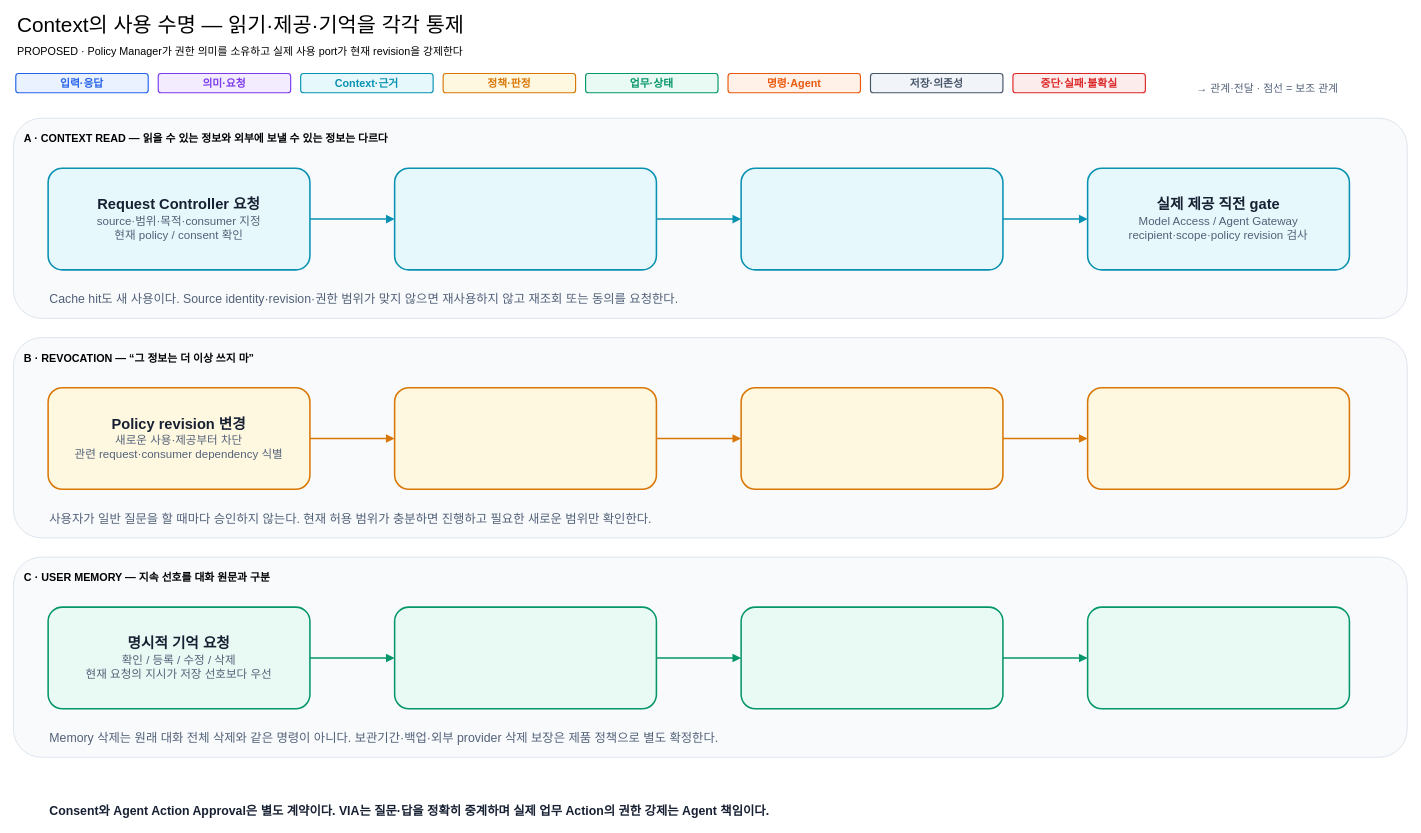
The diagram is 1421 pixels wide and 833 high, and some of its shapes have lost their labels. Each missing label, with the centre of its shape:
"Cache·session 무효화 Context view·모델 history 재사용 중단 진행 중 생성 취소 / 결과 폐기" belongs at (x=525, y=438).
"Consumer view 필요한 근거·출처만 구성 Conversation·Task는 owner read port" belongs at (x=871, y=218).
"Context Manager 상태 변경 memory ID·version·삭제 tombstone 허용 범위 안에서 내구 기록" belongs at (x=525, y=657).
"Context Manager 허용 envelope 안에서 bounded read source revision·receipt·후보 coverage" belongs at (x=525, y=218).
"결과와 한계 안내 실제 적용·확인 범위를 Text로 기록 외부 제공 이력·보관 정책은 별도 관리" belongs at (x=1218, y=657).
"미전송·미게시 보류 dispatch·release gate에서 재검사 오래된 admission으로 재개 금지" belongs at (x=871, y=438).
"이미 제공된 정보 회수·외부 삭제 가능 범위 확인 지원되지 않는 회수를 성공으로 말하지 않음" belongs at (x=1218, y=438).
"파생 view 갱신 cache·prompt·session·대기 생성 무효화 삭제된 선호를 history로 되살리지 않음" belongs at (x=871, y=657).
